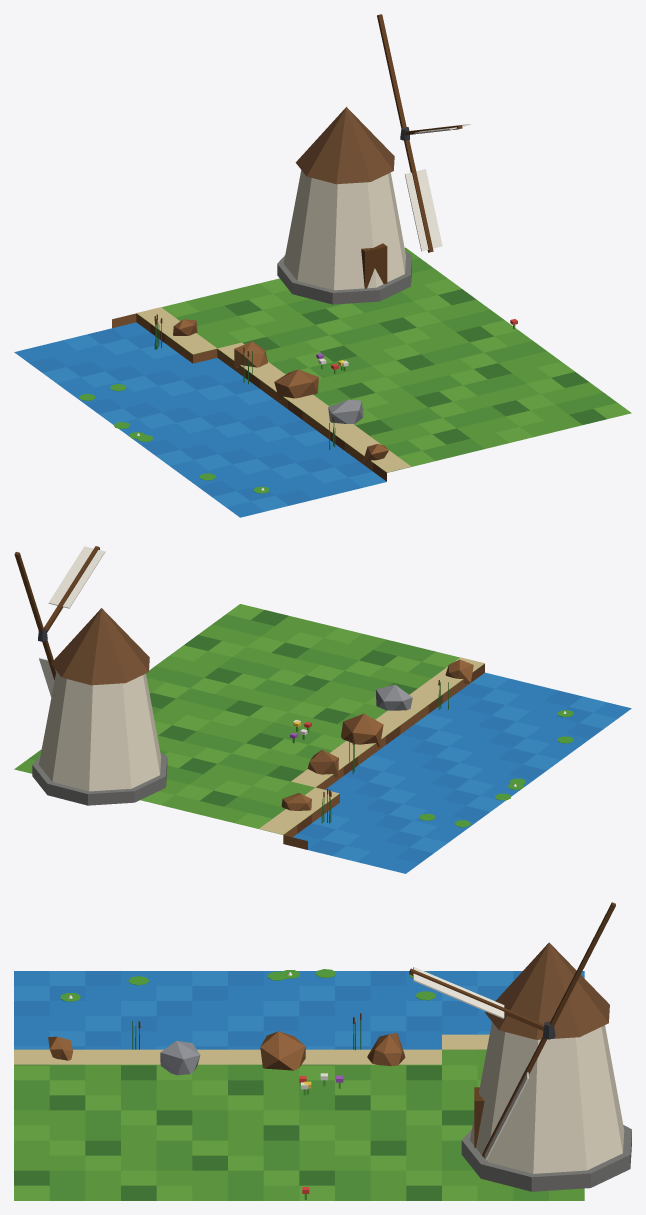
Rendered from chunk_0_7.glb.
3 renders of one model, top to bottom at view 1: azimuth 30°, elevation 25°; view 2: azimuth 150°, elevation 25°; view 3: azimuth 270°, elevation 25°, orthographic. The views are drawn at different scales.
Visible parts, largest first — view 1: chunk_0_7; view 2: chunk_0_7; view 3: chunk_0_7.
Part boxes in pixels (bbox=[...]): chunk_0_7: bbox=[14, 14, 631, 517]; chunk_0_7: bbox=[14, 546, 631, 873]; chunk_0_7: bbox=[14, 902, 631, 1200].
Size of the model in its own units: 16.08 by 9.41 by 17.32.
